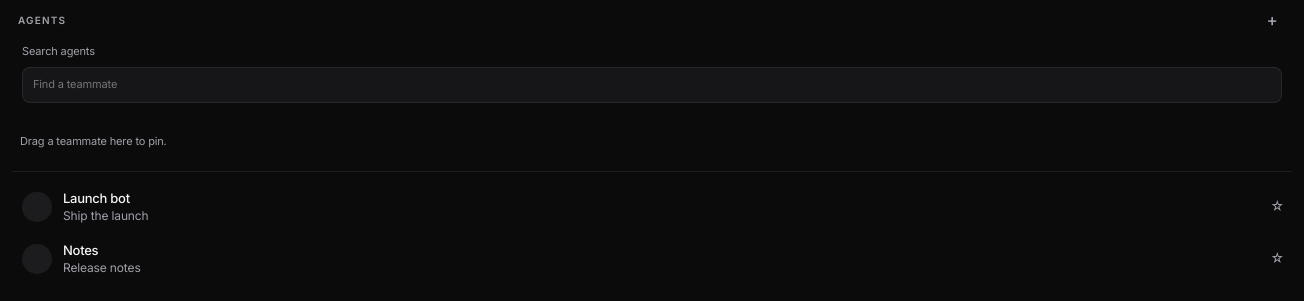
Test: filters the rail by name and restores every row when the query is cleared
Expected: the button titled "Launch bot" is shown, [12, 181, 1260, 233]
Expected: the button titled "Notes" is shown, [12, 233, 1260, 285]
Type "launch" into the field labelled "Search agents" at (652, 85), box [22, 67, 1282, 103]
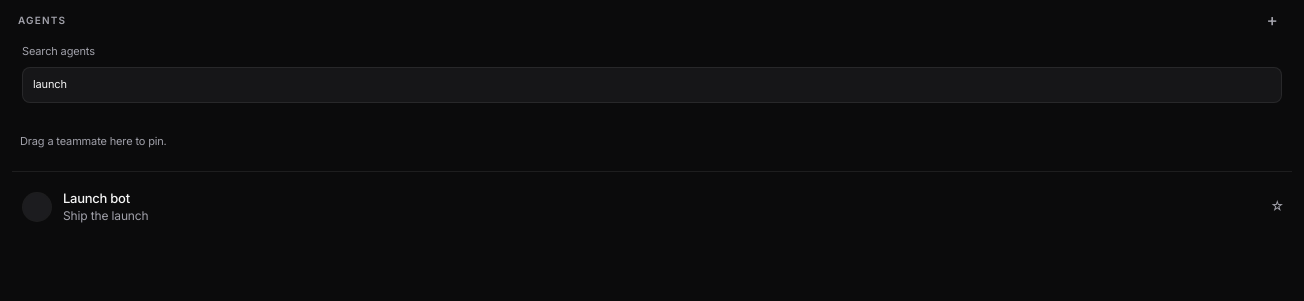
Expected: the button titled "Launch bot" is shown, [12, 181, 1260, 233]
Expected: the button named "Pin Launch bot" is shown, [1262, 181, 1292, 233]
Clear the field labelled "Search agents" at (652, 85), box [22, 67, 1282, 103]
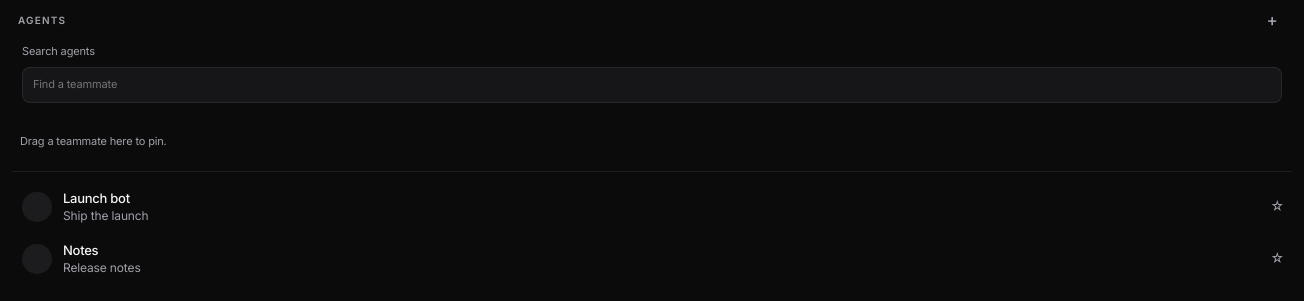
Expected: the button titled "Launch bot" is shown, [12, 181, 1260, 233]
Now the button titled "Notes" is shown, box [12, 233, 1260, 285]
